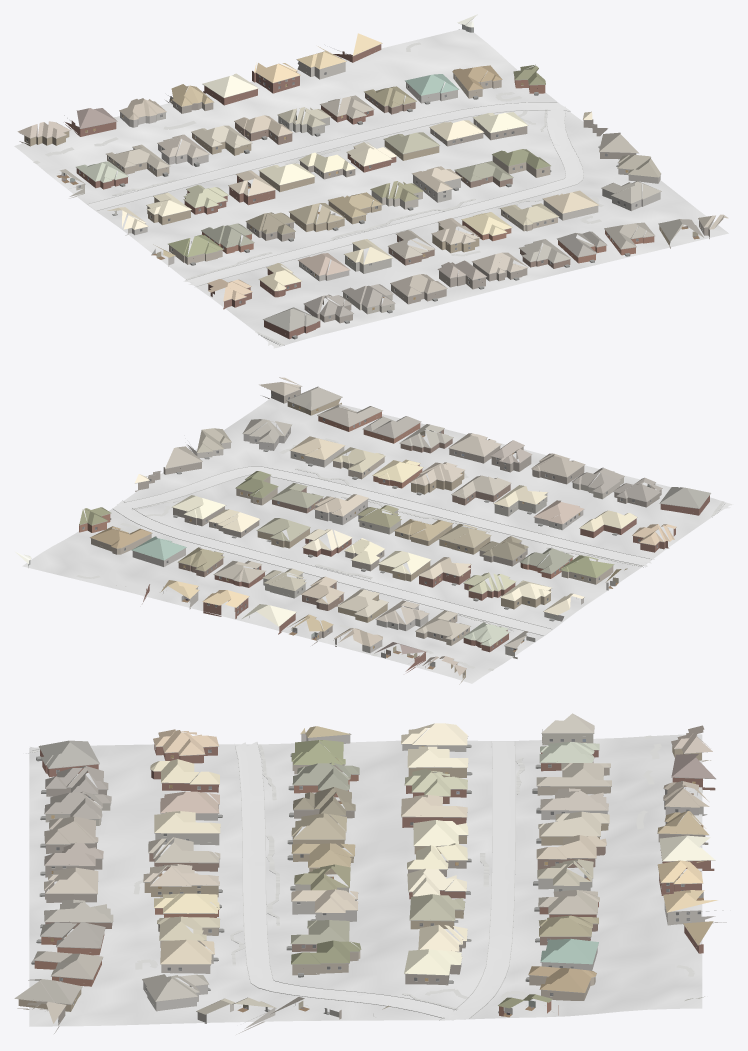
3 views of the same model, one above another, from view 1: azimuth 30°, elevation 25°; view 2: azimuth 150°, elevation 25°; view 3: azimuth 270°, elevation 25° (orthographic). The views are drawn at different scales.
Visible parts, largest first — view 1: ground, roof, wall, concrete, detail, wall_stucco, wall_stone, curb, walk, glass; view 2: ground, roof, wall, concrete, detail, wall_stucco, curb, wall_stone, walk, glass, room; view 3: ground, roof, concrete, wall, detail, wall_stucco, wall_stone, walk, curb, glass.
Part boxes in pixels (x1,y1,x2,y2): ground: [14, 29, 728, 347]; roof: [17, 14, 728, 331]; wall: [19, 44, 709, 339]; concrete: [88, 102, 583, 348]; detail: [20, 24, 708, 339]; wall_stucco: [69, 24, 660, 314]; wall_stone: [120, 82, 660, 281]; curb: [88, 102, 583, 345]; walk: [33, 42, 603, 345]; glass: [26, 72, 702, 318]; ground: [22, 398, 731, 683]; roof: [15, 377, 710, 675]; wall: [79, 387, 709, 684]; concrete: [113, 466, 733, 635]; detail: [29, 386, 710, 675]; wall_stucco: [28, 442, 623, 658]; curb: [113, 466, 725, 635]; wall_stone: [132, 424, 608, 653]; walk: [76, 438, 724, 670]; glass: [82, 394, 657, 674]; room: [181, 406, 618, 669]; ground: [29, 734, 702, 1026]; roof: [14, 713, 717, 1023]; concrete: [30, 741, 515, 1020]; wall: [17, 744, 715, 1033]; detail: [20, 729, 723, 1023]; wall_stucco: [45, 733, 726, 1034]; wall_stone: [143, 732, 707, 1011]; walk: [29, 735, 702, 1009]; curb: [26, 741, 524, 1020]; glass: [51, 739, 700, 1022].
Bounding box in the file's own units: 266 × 19.42 × 267.
